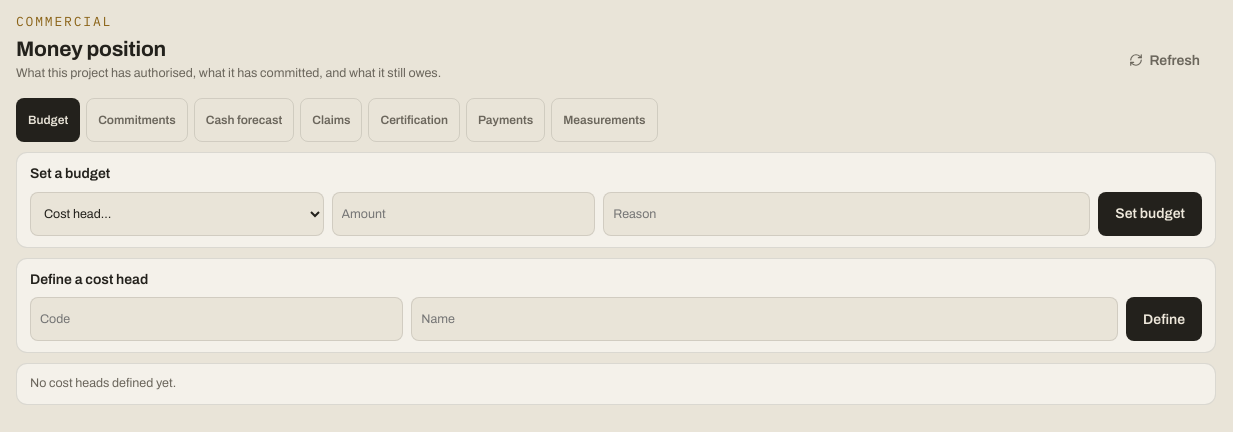
Test case: Task 7B-ii (§M) — the rendered claim tabs never dereference an absent claim › a claim that failed to load offers Retry rather than an empty panel
The image size is (1233, 432).
Click the button with test id "commercial-tab-claims" at (331, 120), box left=300, top=98, right=362, bottom=142
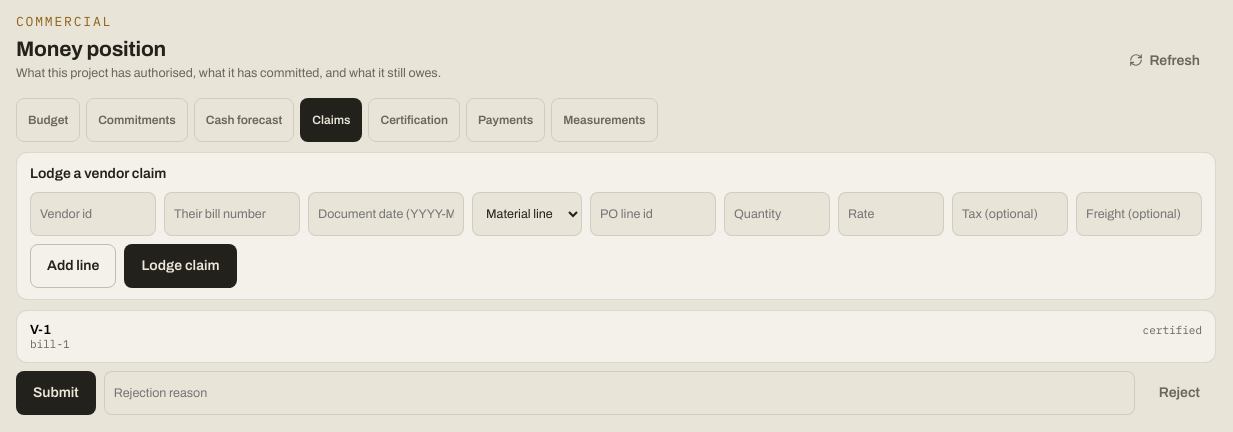
Click the button with test id "commercial-claim-row-bill-1" at (1172, 330), box left=16, top=310, right=1216, bottom=363
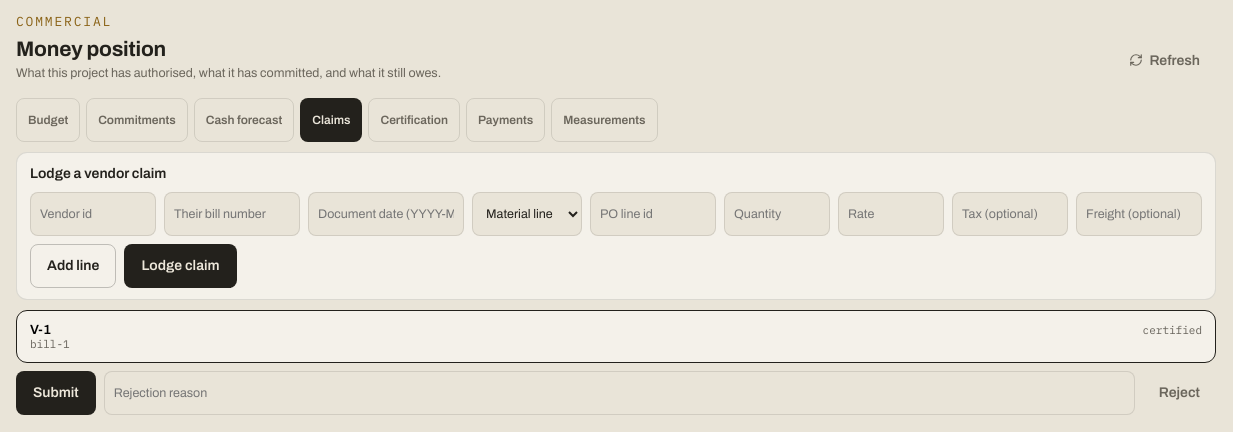
Click the button with test id "commercial-tab-payments" at (506, 120), box left=466, top=98, right=545, bottom=142
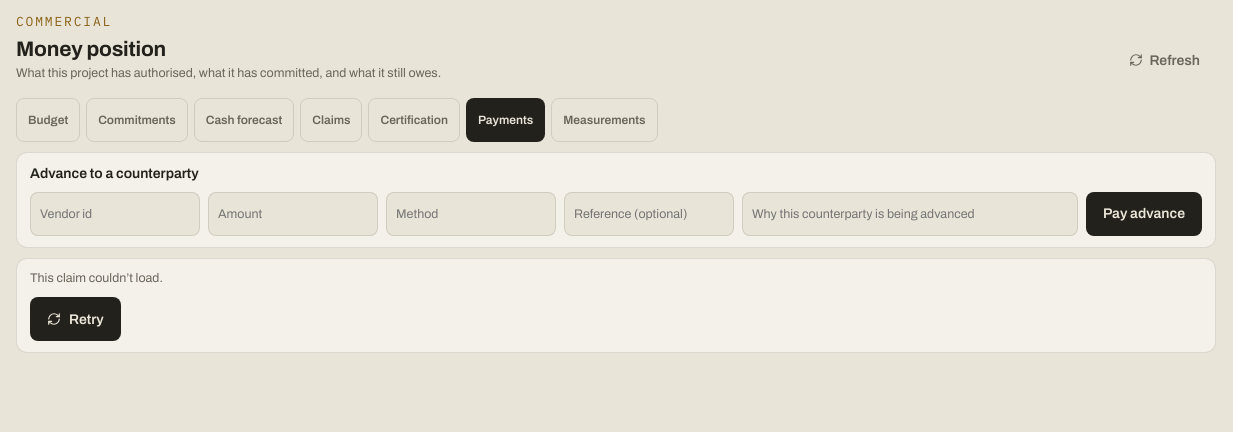
Expected: the element with test id "commercial-claim-unavailable" is shown, left=16, top=258, right=1216, bottom=353
Expected: the button with test id "commercial-claim-retry" is shown, left=30, top=297, right=121, bottom=341
